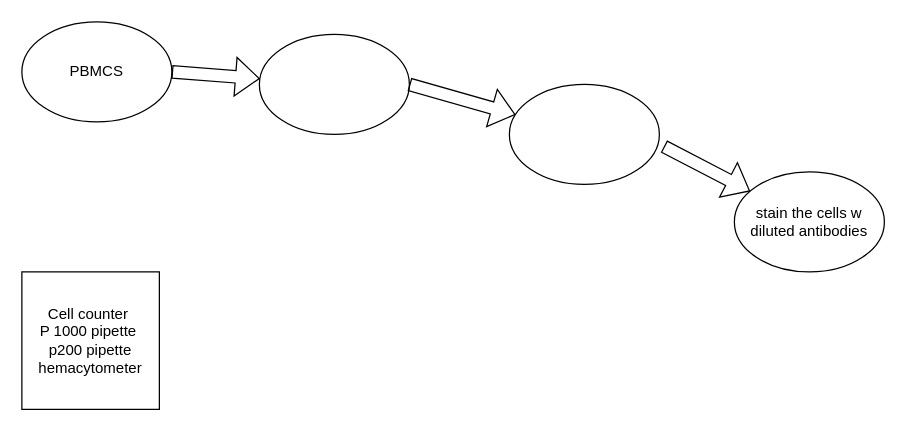
This 906x431 diagram has some shape labels left out. Here are the shapes that lost their labels. From the top down, the centre of each, then its label:
At point 333,83: "Count the cells".
At point 583,133: "dilution of cells".
